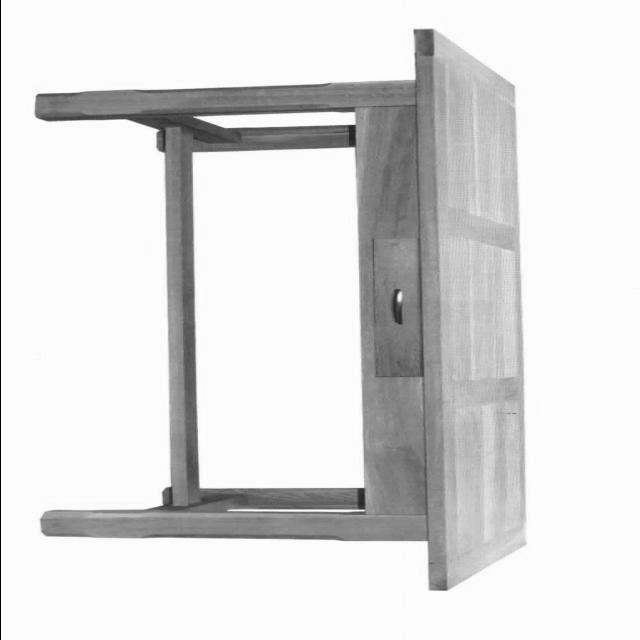table: (31, 28, 525, 592)
